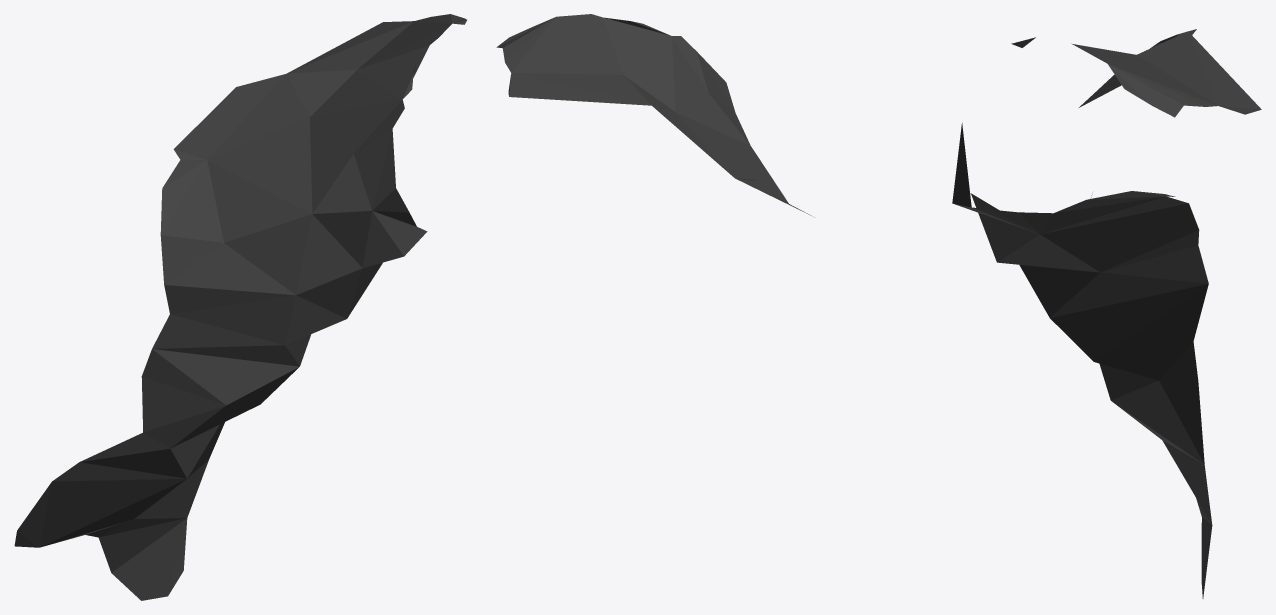
File: A_unused4_Group21122.glb
The picture shows the model from 3 angles, left to right: view 1: azimuth 30°, elevation 25°; view 2: azimuth 150°, elevation 25°; view 3: azimuth 270°, elevation 25°; orthographic projection. The views are drawn at different scales.
Visible parts, largest first — view 1: A_unused4_Group21122; view 2: A_unused4_Group21122; view 3: A_unused4_Group21122.
Part boxes in pixels (<box>): A_unused4_Group21122: <box>14,14,466,600</box>; A_unused4_Group21122: <box>496,14,814,217</box>; A_unused4_Group21122: <box>952,29,1261,598</box>.
Bounding box in the file's own units: 0.00727 × 0.00834 × 0.00347.
1 material, 1 textured.
